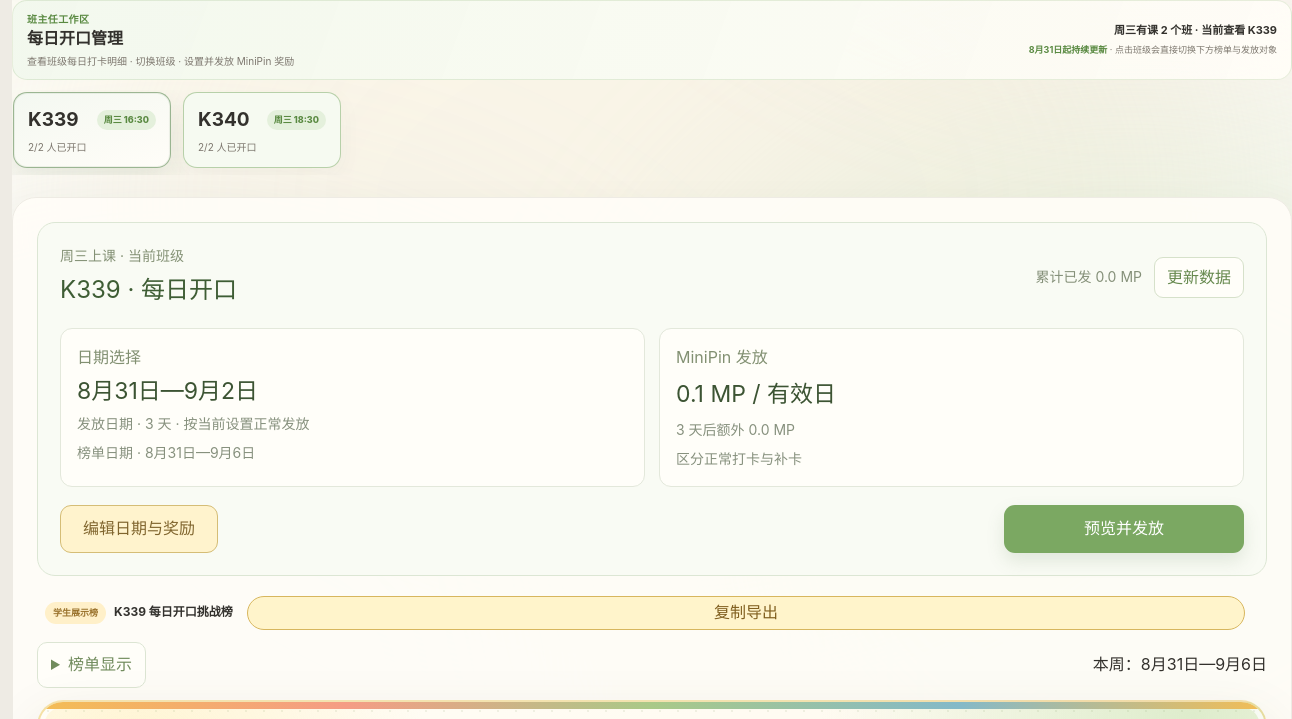
SpeakingChallengeApp › drops an old reward preview if the teacher switches classes while it is loading
The width and height of the screenshot is (1292, 719).
Click the button "预览并发放". click: (1124, 529)
box: [1004, 505, 1244, 553]
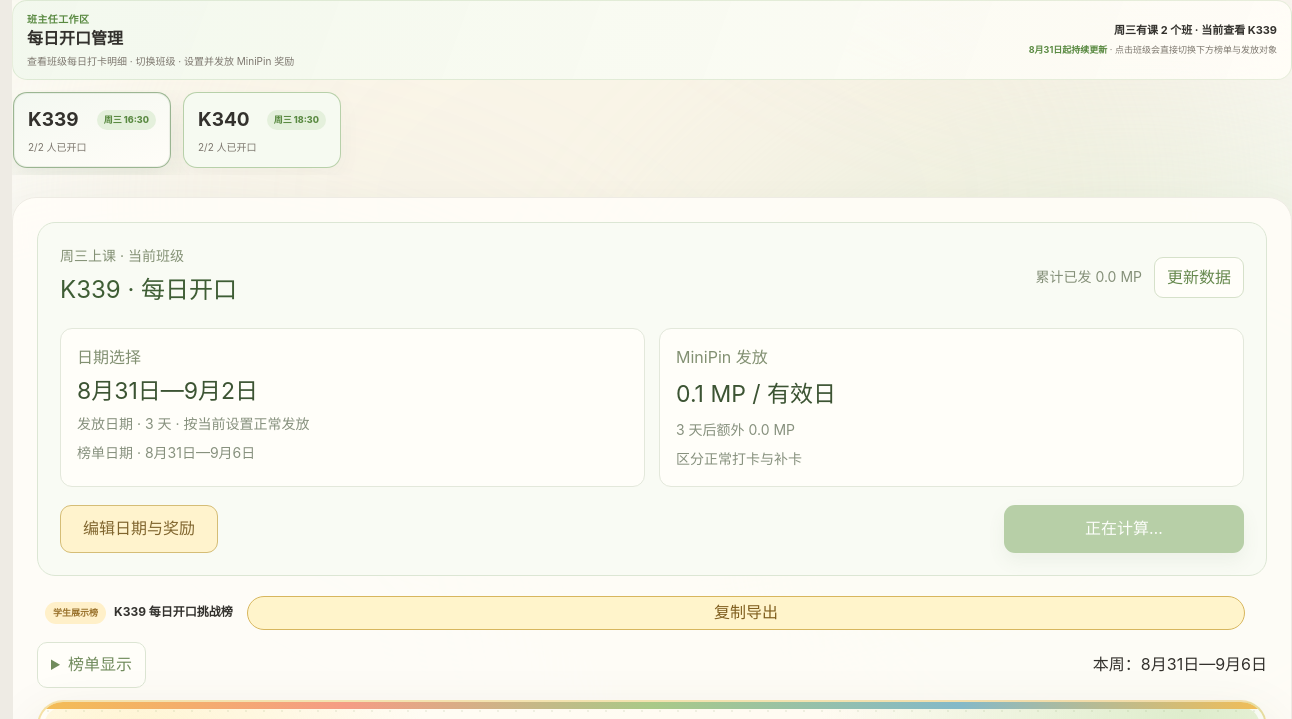
Click the button with class "speaking-challenge__class-card" showing "K340 周三 18:30 2/2 人已开口". click: (262, 130)
box: [183, 92, 341, 168]
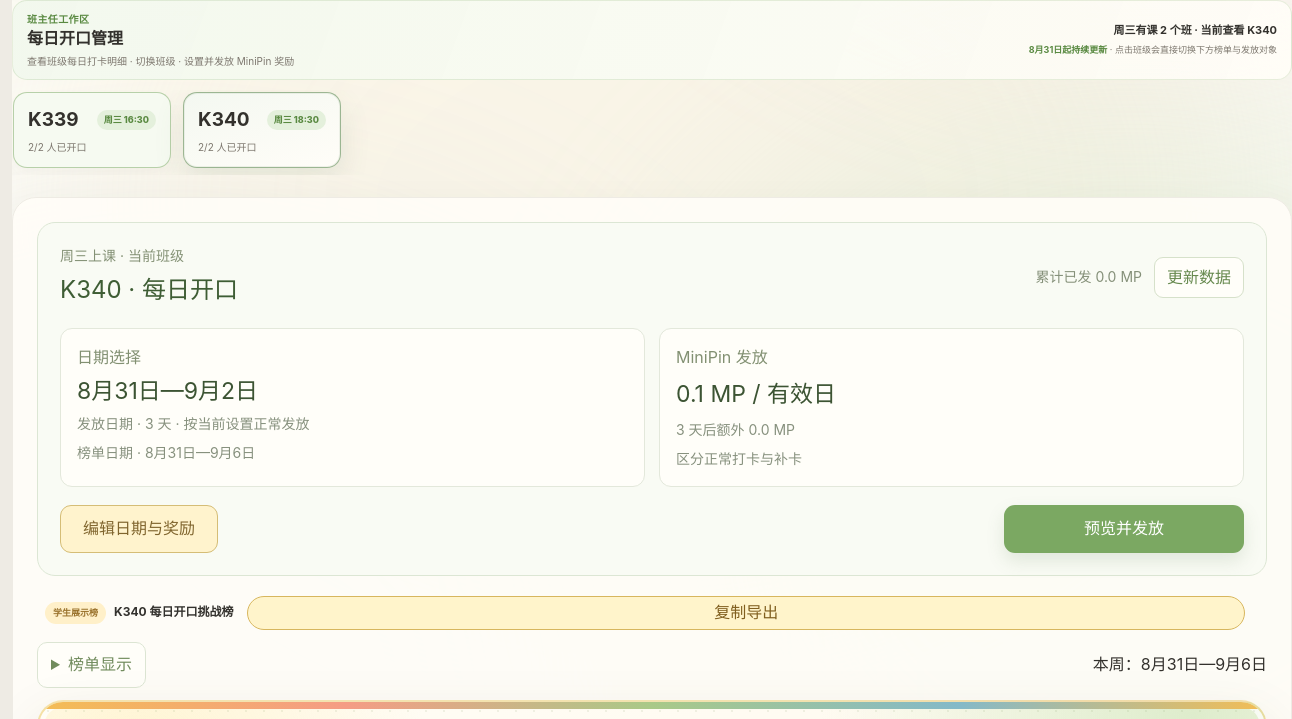
Result: the button "预览并发放" is shown at [1004, 505, 1244, 553]
